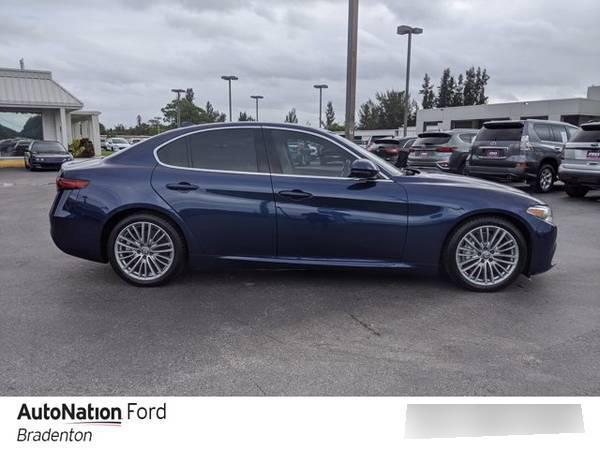Front_Bumper: (528, 219, 556, 278)
Front_Fender: (395, 174, 545, 270)
Front_Right_Door: (270, 174, 408, 268)
Front_Right_Window: (265, 124, 398, 181)
Rear_Bumper: (49, 204, 106, 264)
Rear_Fender: (54, 136, 161, 217)
Rear_Right_Door: (149, 161, 276, 268)
Rear_Right_Window: (152, 123, 274, 174)
Right_Headlight: (526, 201, 555, 223)
Right_Taillight: (55, 175, 91, 192)
Wheel: (105, 211, 185, 286), (447, 216, 526, 290)
